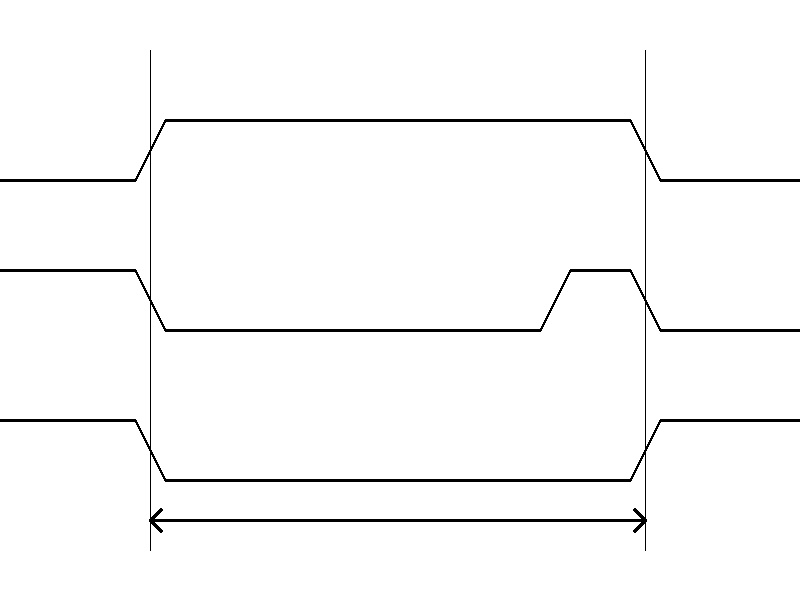double_arrow: (150, 505, 645, 535)
